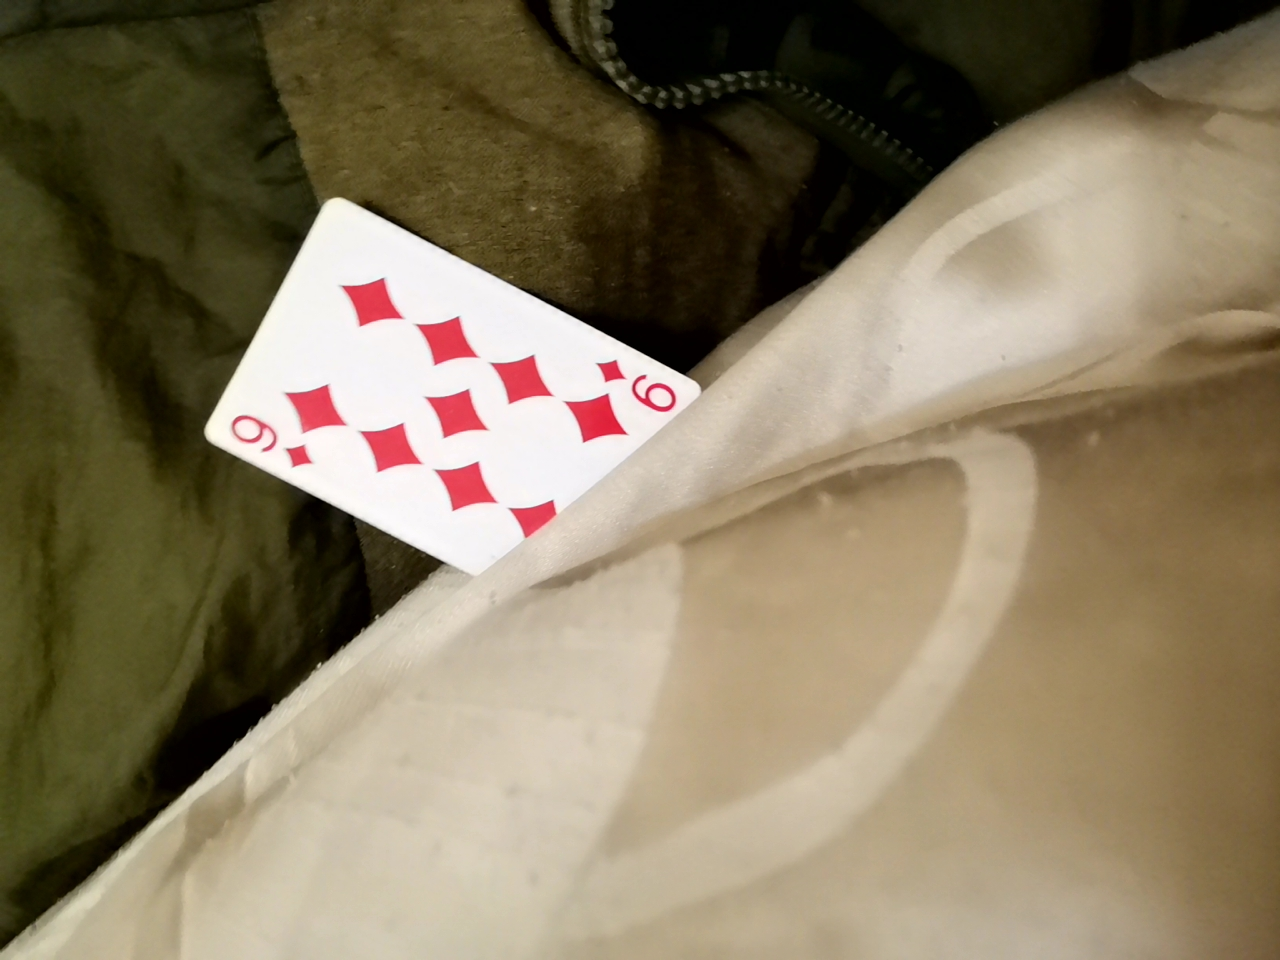fk 9: (187, 216, 706, 593)
